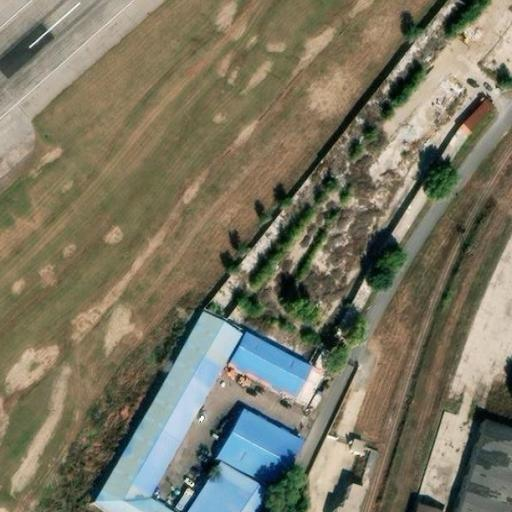building: (94, 309, 241, 511), (213, 408, 303, 492), (224, 328, 311, 401), (230, 195, 299, 278), (455, 423, 512, 512), (186, 464, 276, 512), (383, 177, 431, 241), (206, 267, 241, 307), (456, 99, 490, 133), (344, 271, 375, 308), (329, 485, 362, 512), (409, 496, 441, 512), (344, 430, 366, 451)
